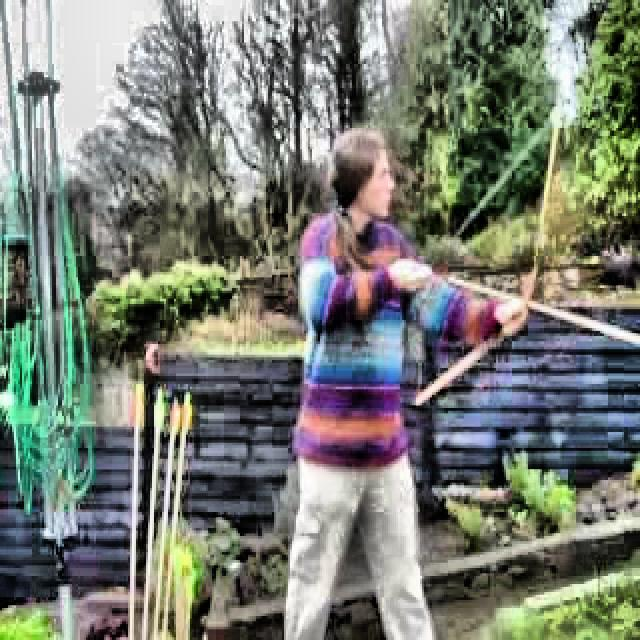I: (275, 116, 559, 619)
